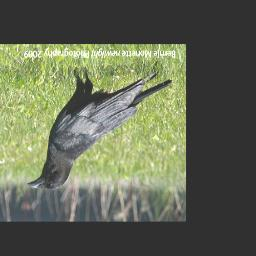Crow: (26, 65, 173, 191)
